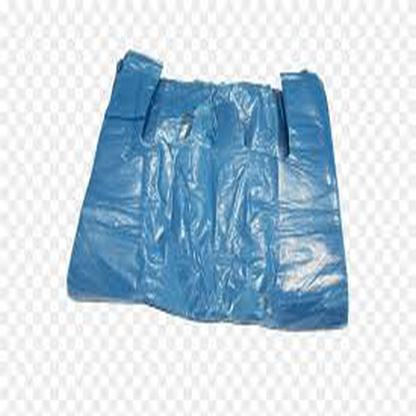plastic bag: (66, 48, 349, 332)
